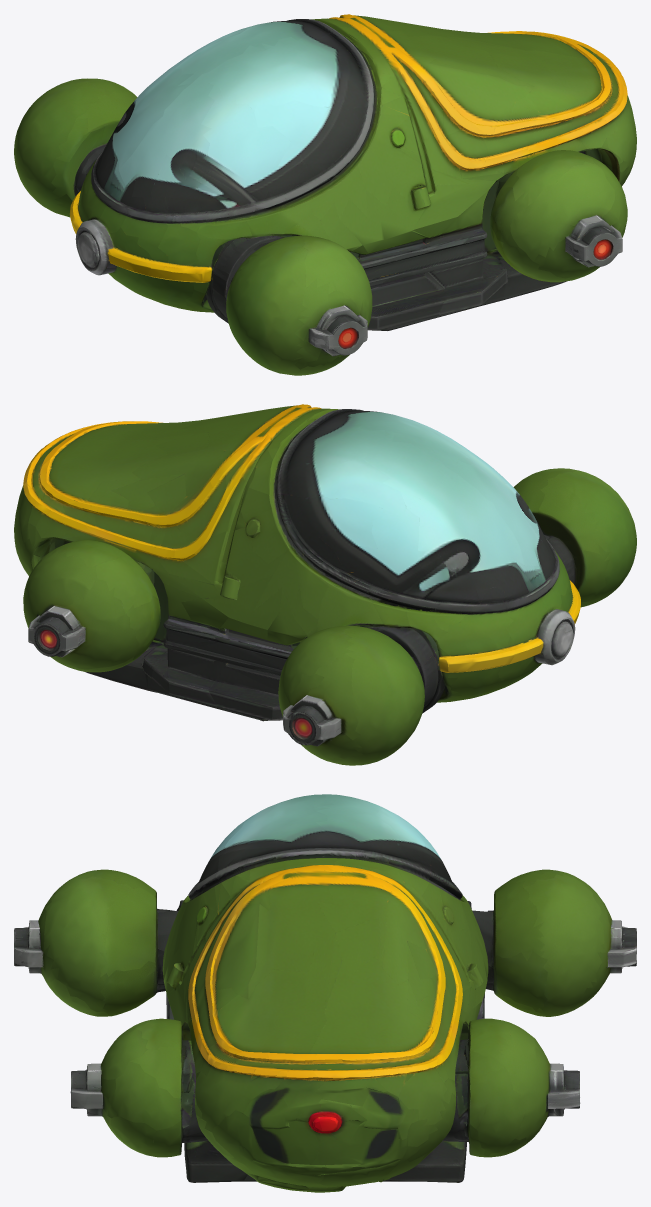
Rendered from veh-hover-pod-green-mesh.glb.
3 renders of one model, top to bottom at view 1: azimuth 30°, elevation 25°; view 2: azimuth 150°, elevation 25°; view 3: azimuth 270°, elevation 25°, orthographic. The views are drawn at different scales.
Visible parts, largest first — view 1: Mesh_0; view 2: Mesh_0; view 3: Mesh_0.
Part boxes in pixels (x1,y1,x2,y2): Mesh_0: (14, 14, 636, 375); Mesh_0: (14, 404, 636, 765); Mesh_0: (14, 794, 636, 1192).
Bounding box in the file's own units: 1.9 × 0.8586 × 1.87.
Materials: 1 (1 with a texture image).
